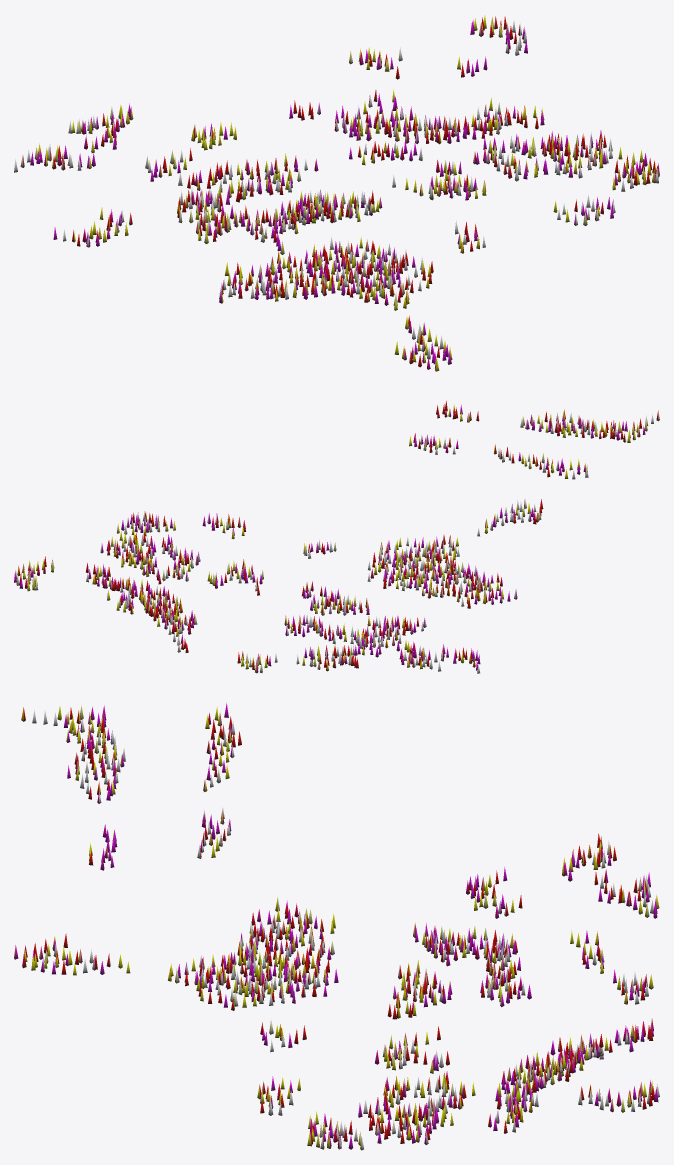
Rendered from testScene_grass.FBX.
The picture shows the model from 3 angles, top to bottom: view 1: azimuth 30°, elevation 25°; view 2: azimuth 150°, elevation 25°; view 3: azimuth 270°, elevation 25°; orthographic projection. The views are drawn at different scales.
Parts seen in each view (by area): view 1: testScene_grass; view 2: testScene_grass; view 3: testScene_grass.
Part boxes in pixels (x1,y1,x2,y2): testScene_grass: (14, 15, 659, 371); testScene_grass: (14, 401, 659, 673); testScene_grass: (14, 703, 659, 1150).
Bounding box in the file's own units: 29.96 × 9.21 × 29.77.
